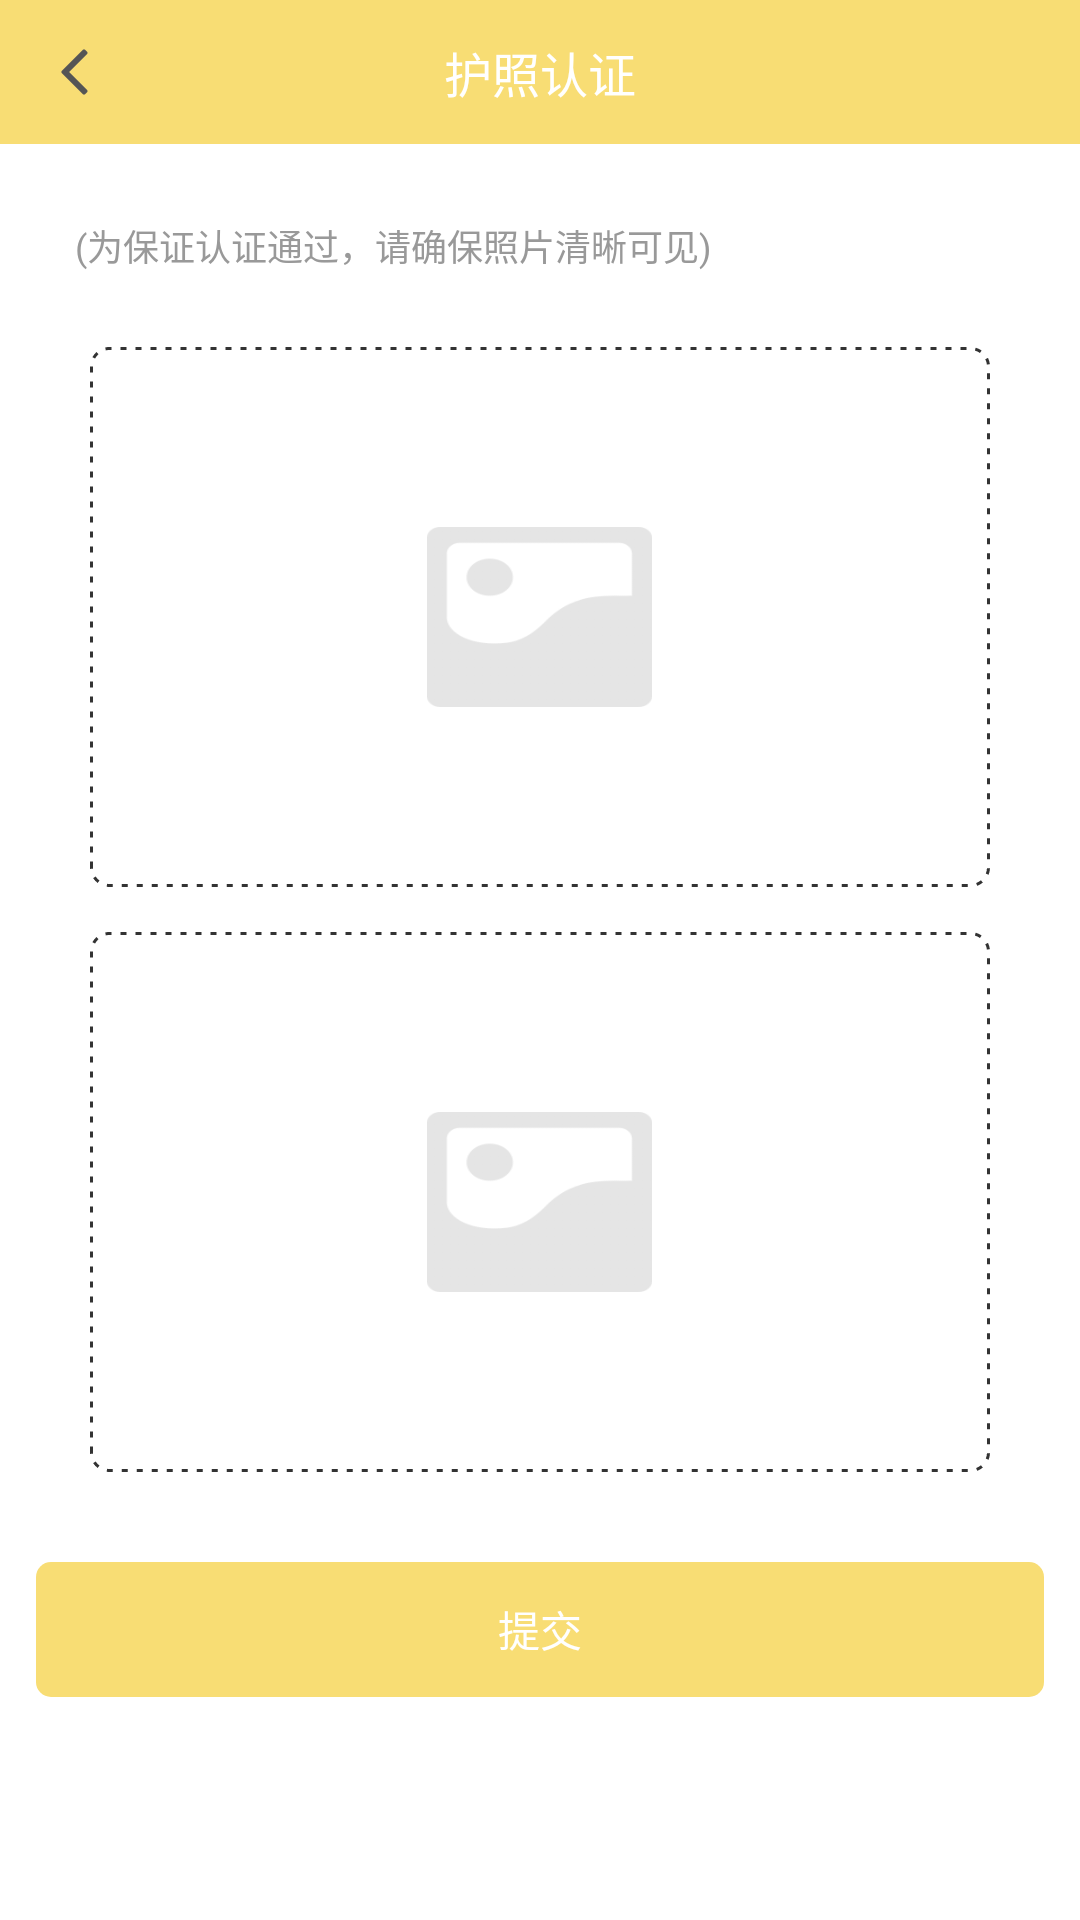

Screen size 1080px×1920px. Icon name, then its box in pixels as (x1, y1, x2, y2):
left back: (61, 49, 88, 95)
